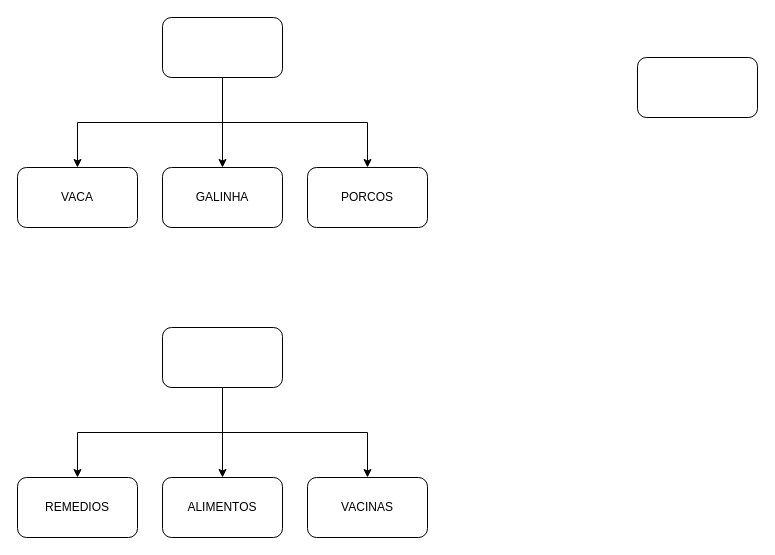
The diagram is 775 pixels wide and 555 high, and some of its shapes have lost their labels. The shapes that lost their labels are listed below. From the top down, each one's box as (x1, y1, x2, y2) in pixels, then its label:
(162, 16, 282, 78): ANIMAIS
(636, 56, 758, 118): PRODUTOR
(162, 326, 282, 388): ESTOQUE
